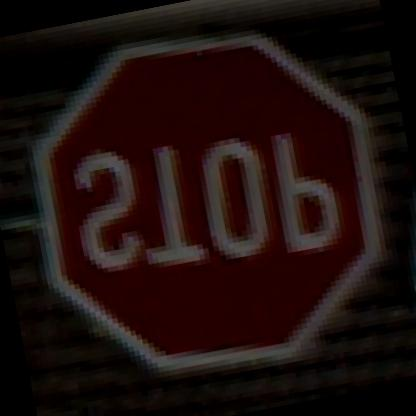stop: (6, 6, 408, 408)
